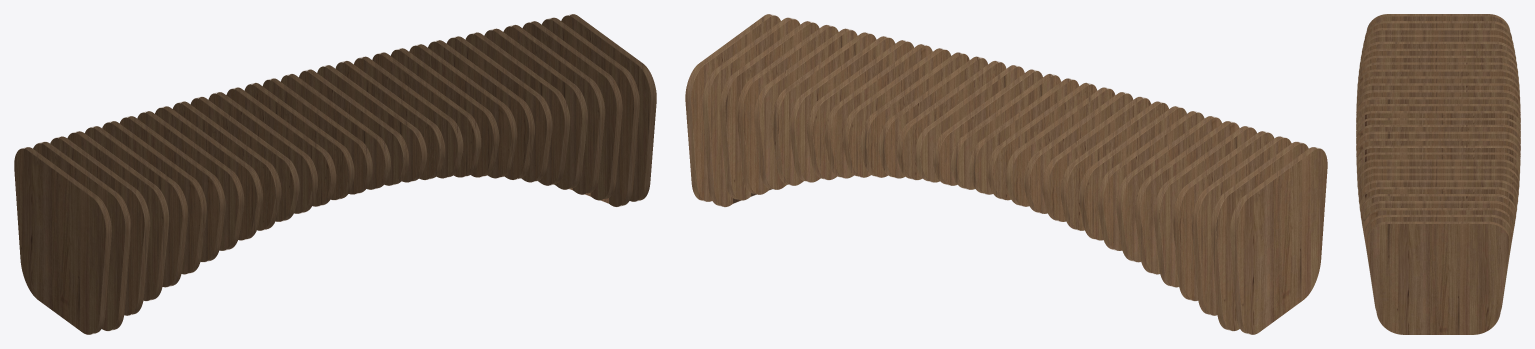
Rendered from odes.glb.
3 renders of one model, left to right at view 1: azimuth 30°, elevation 25°; view 2: azimuth 150°, elevation 25°; view 3: azimuth 270°, elevation 25°, orthographic. The views are drawn at different scales.
Visible parts, largest first — view 1: bench; view 2: bench; view 3: bench.
Part boxes in pixels (<box>): bench: <box>14,14,656,334</box>; bench: <box>685,14,1327,334</box>; bench: <box>1356,14,1520,334</box>.
Size of the model in its own units: 1.82 by 0.45 by 0.6042.
2 materials, 2 textured.
